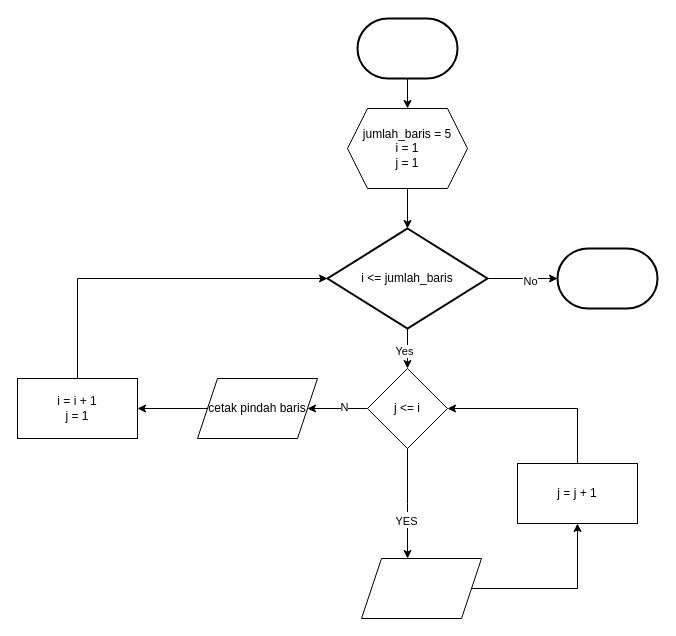
The diagram is 676 pixels wide and 636 high, and some of its shapes have lost their labels. Here are the shapes that lost their labels. From the top down, the centre of each, then its label:
At (x=407, y=48): "Start".
At (x=607, y=278): "End".
At (x=421, y=588): "cetak i".
